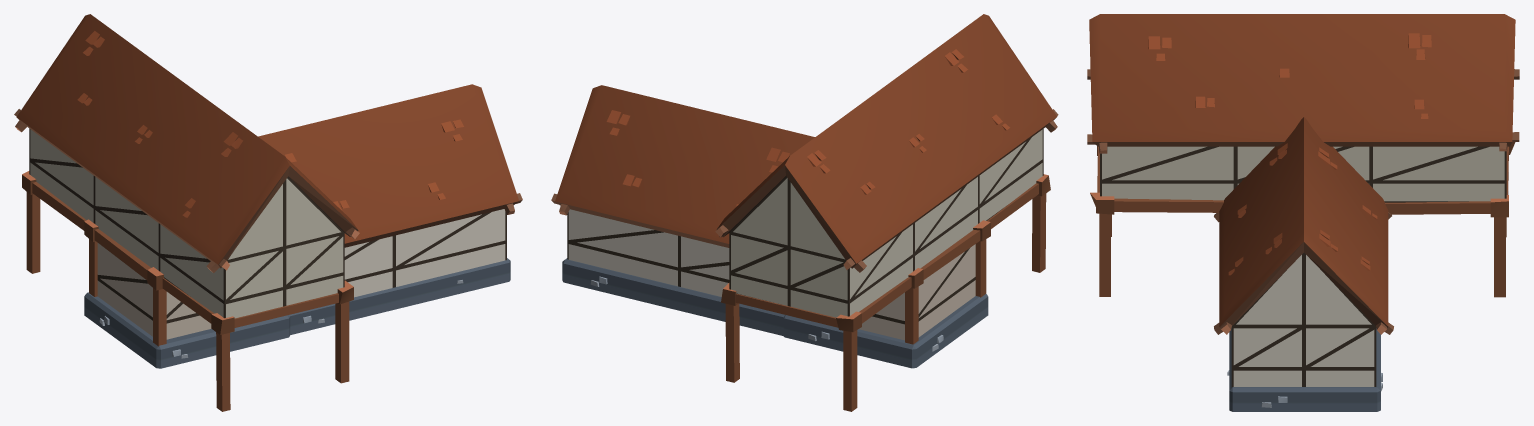
File: house-ver10.glb
3 views of the same model, side by side, from view 1: azimuth 30°, elevation 25°; view 2: azimuth 150°, elevation 25°; view 3: azimuth 270°, elevation 25° (orthographic). The views are drawn at different scales.
Visible parts, largest first — view 1: House-ver10; view 2: House-ver10; view 3: House-ver10.
Part boxes in pixels (box(x1,y1,x2,y2)): House-ver10: box(14, 14, 522, 411); House-ver10: box(551, 14, 1058, 411); House-ver10: box(1087, 14, 1519, 411).
Size of the model in its own units: 14.08 by 8.74 by 13.65.
Materials: 1 (1 with a texture image).
